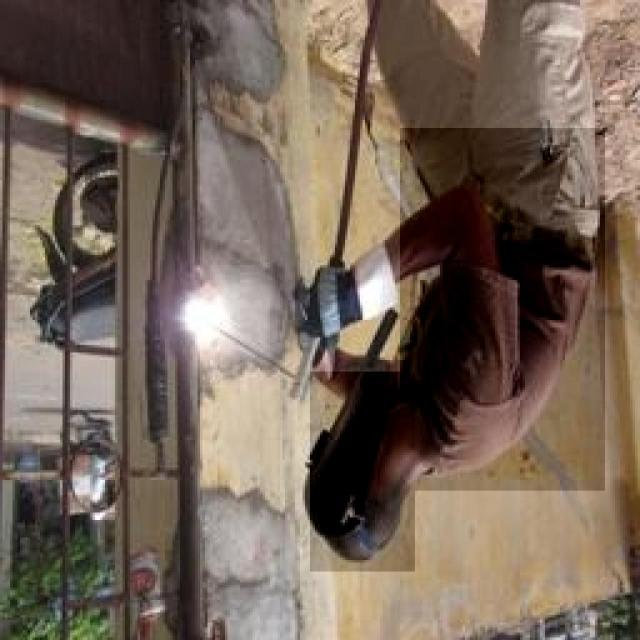Helmet: (400, 128, 605, 491), (310, 372, 415, 572)
